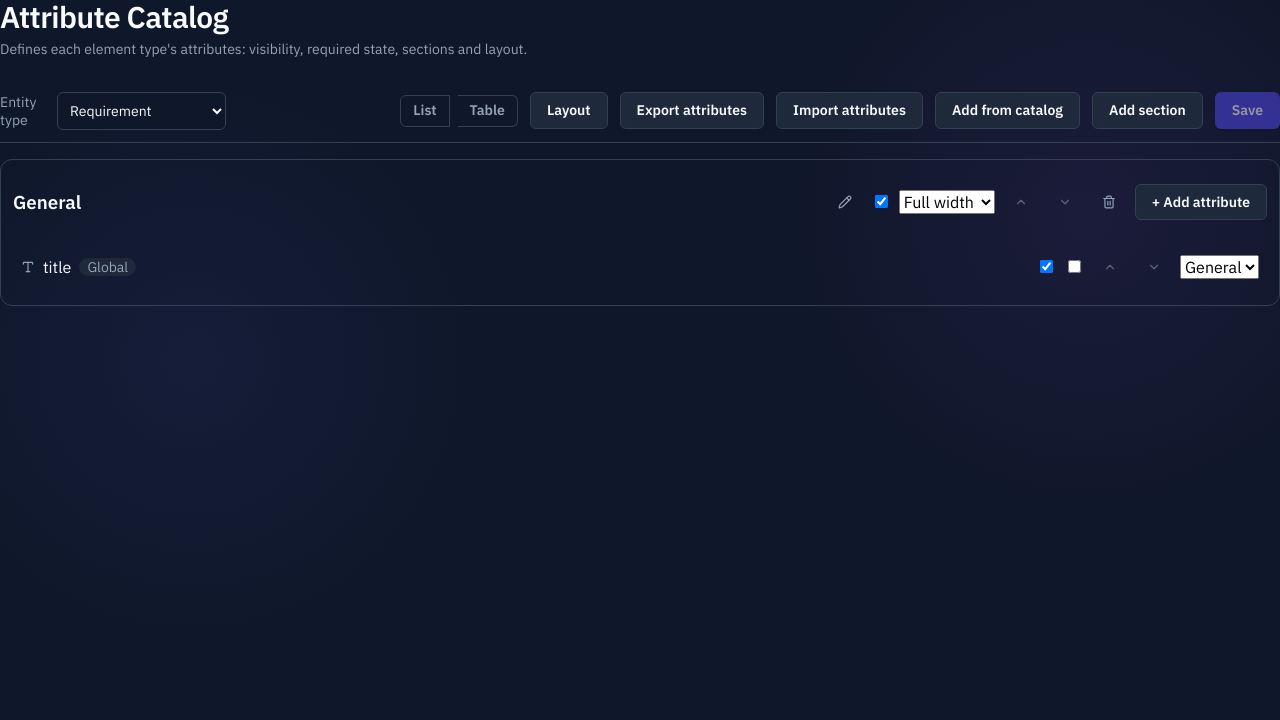
AttributeEditorPage catalog entry (WS5 #942) › shows the entry point for admins and applies a chosen entry
Expected: the button with test id "attribute-row-title" is shown, [13,241,1267,293]
Step 1. Click the button with test id "attribute-editor-add-from-catalog" → (1007, 110), box [935,92,1080,129]
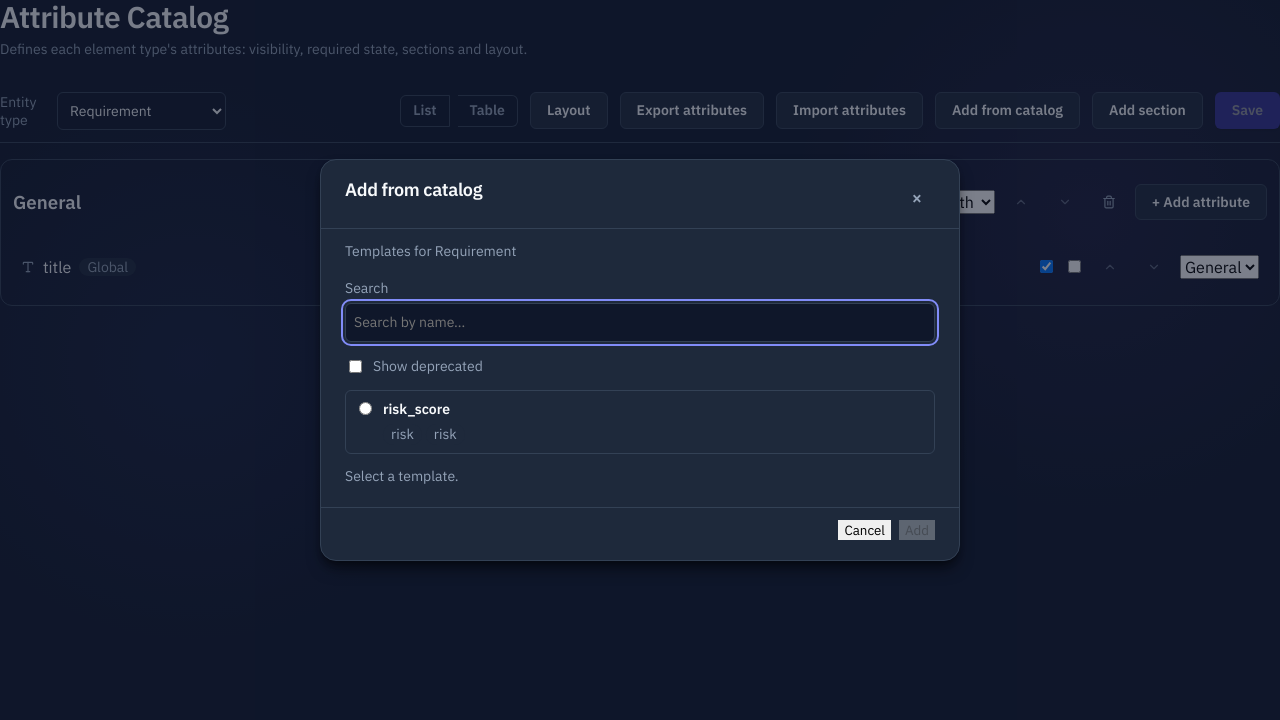
Expected: the radio button with test id "attribute-catalog-entry-e1" is shown
Step 2. Click the radio button with test id "attribute-catalog-entry-e1" → (366, 408), box [359,402,372,415]
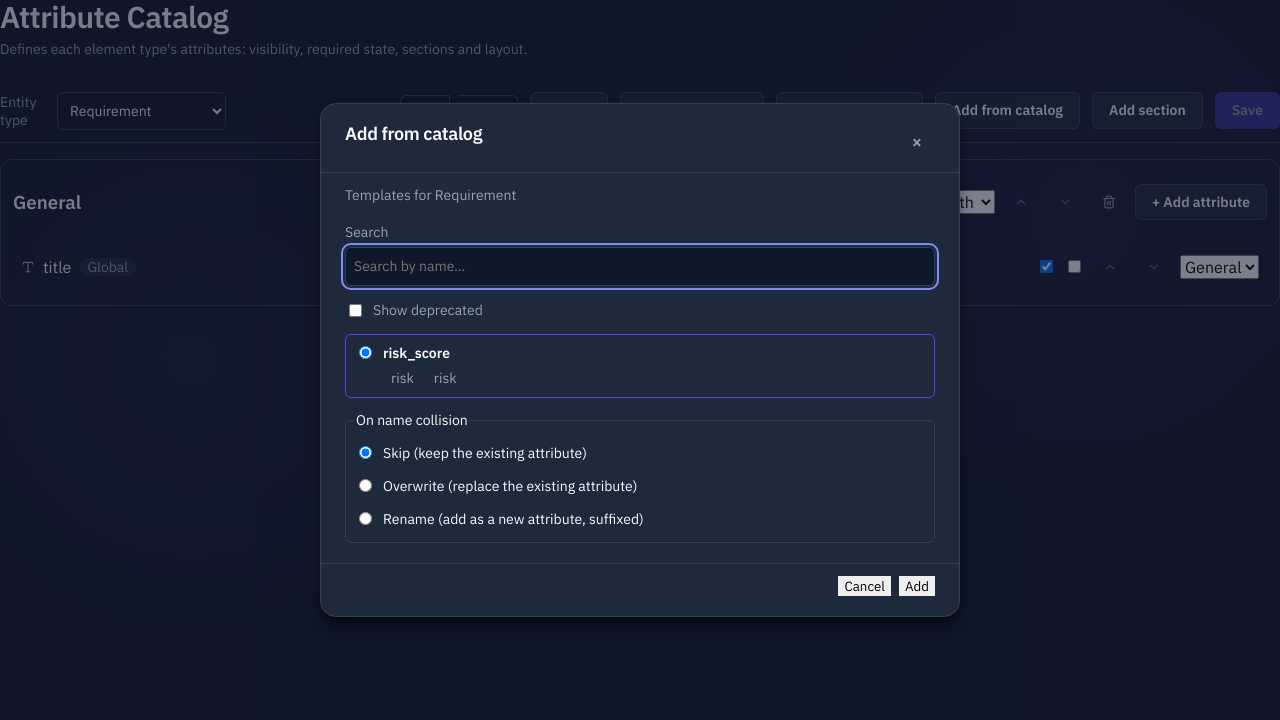
Step 3. Click the radio button with test id "attribute-catalog-on-collision-overwrite" → (366, 486), box [359,479,372,492]
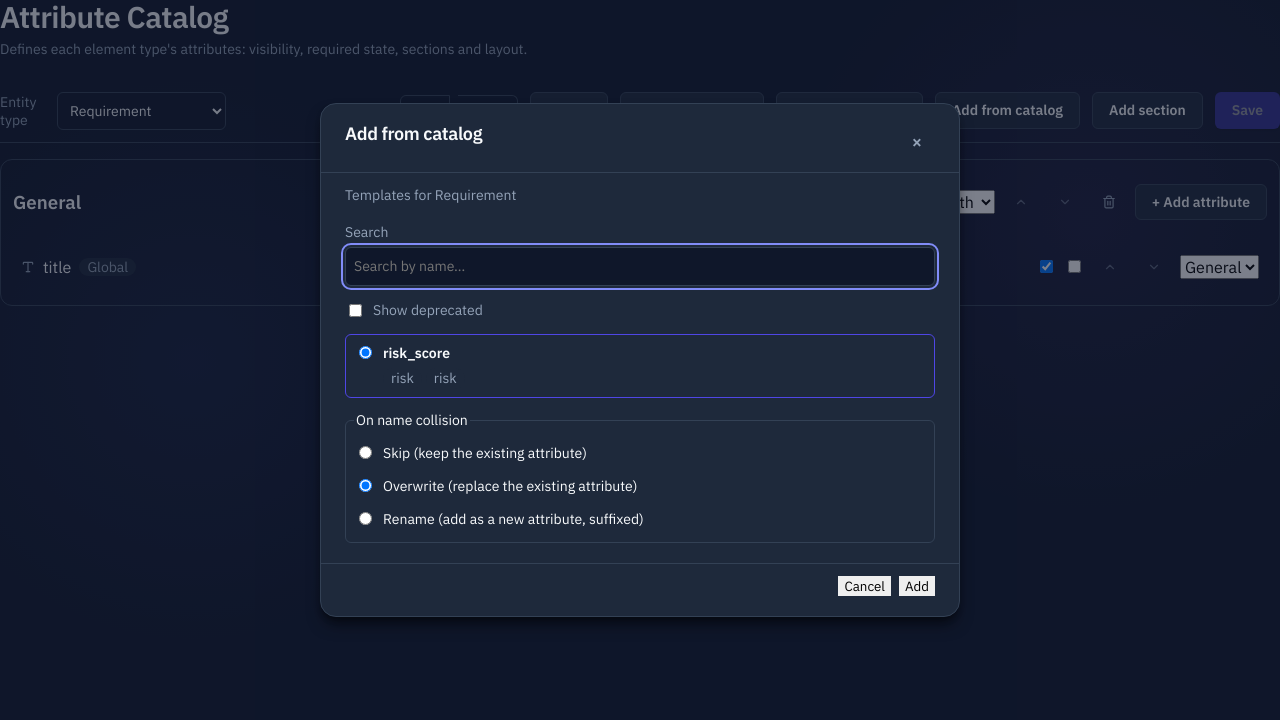
Step 4. Click the button with test id "attribute-catalog-add" → (917, 586), box [899,576,935,596]
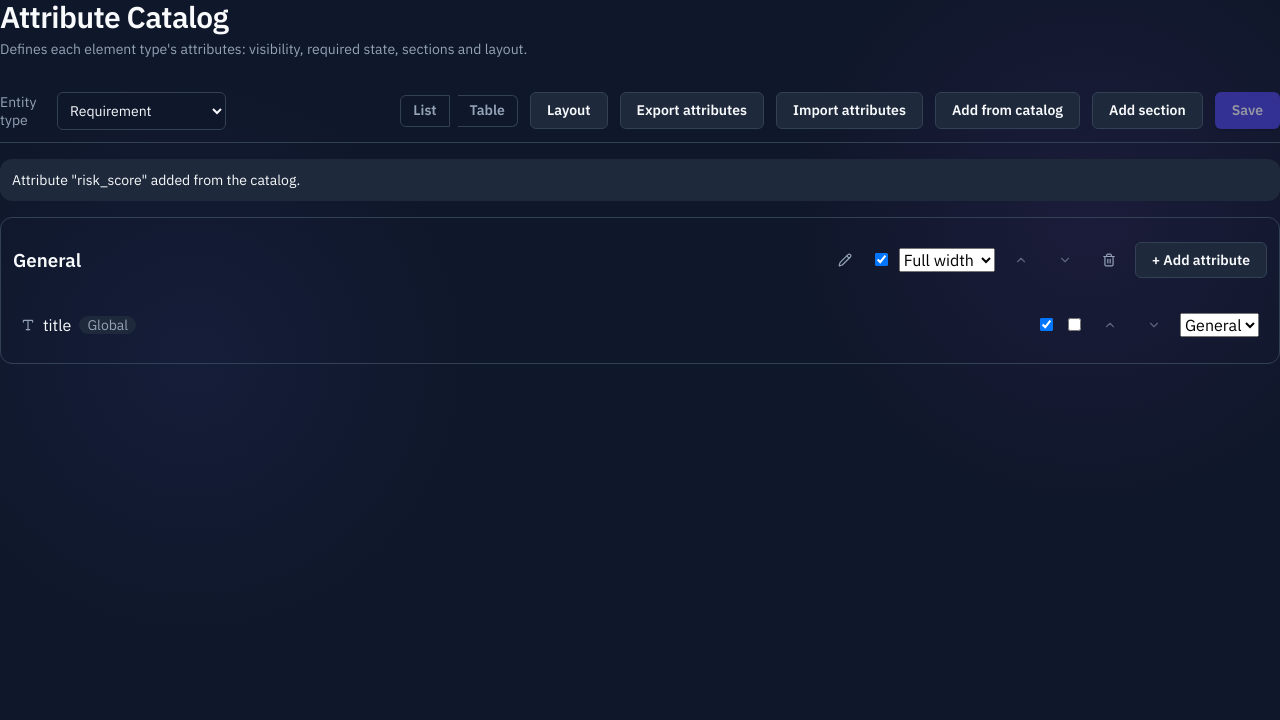
Expected: the element with test id "attribute-editor-toast" shows "risk_score", [12,170,300,188]
